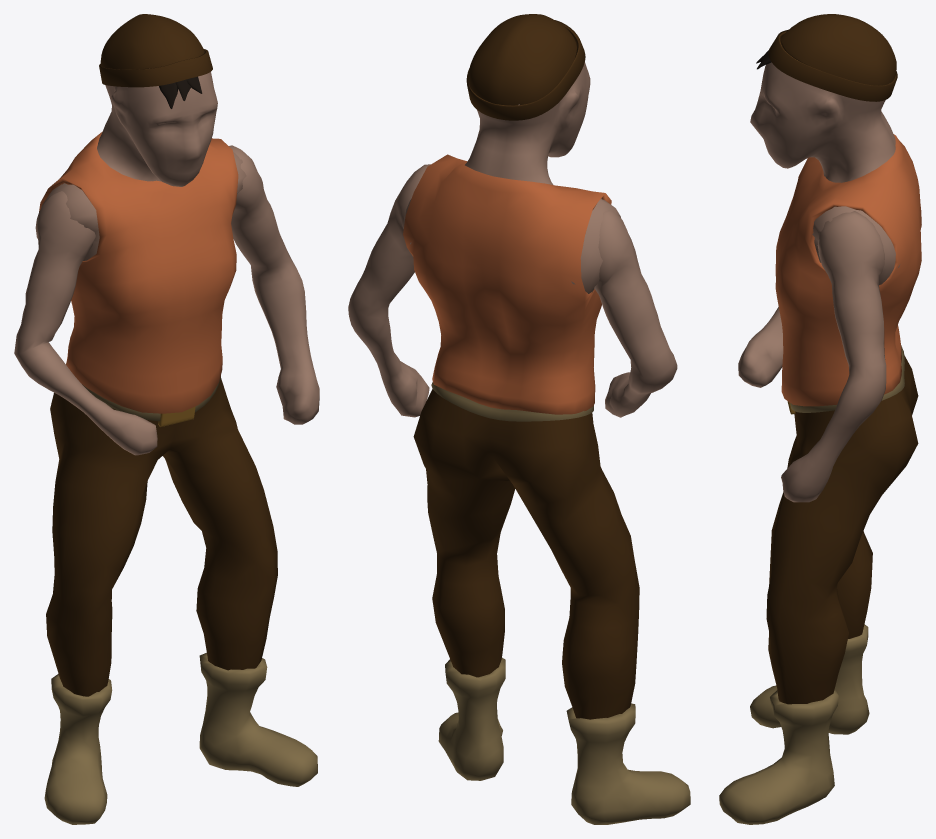
File: Hiker.fbx
The picture shows the model from 3 angles, left to right: view 1: azimuth 30°, elevation 25°; view 2: azimuth 150°, elevation 25°; view 3: azimuth 270°, elevation 25°; orthographic projection. The views are drawn at different scales.
Parts seen in each view (by area): view 1: Toon_Pose01:Group63991; view 2: Toon_Pose01:Group63991; view 3: Toon_Pose01:Group63991.
Boxes of the visible parts, box(x1,y1,x2,y2) form: Toon_Pose01:Group63991: box(14, 14, 319, 824); Toon_Pose01:Group63991: box(348, 14, 690, 824); Toon_Pose01:Group63991: box(719, 14, 921, 824).
Bounding box in the file's own units: 3 × 7.31 × 1.78.
